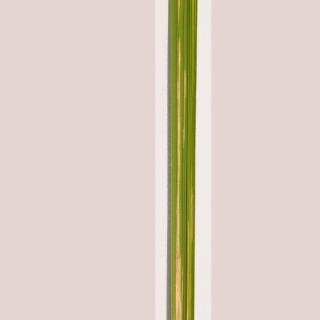Hawar-Daun: (168, 3, 199, 320)
